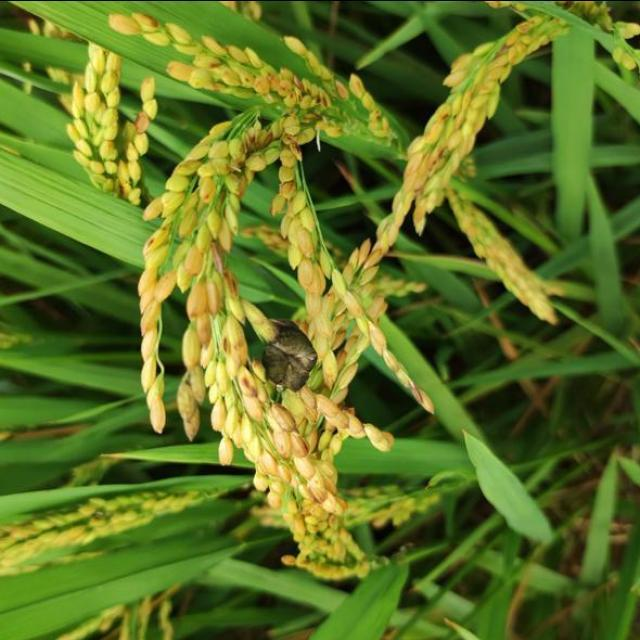Leaf_Scald: (256, 316, 316, 392)
